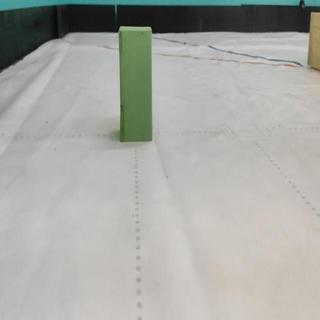greenbox: (118, 25, 155, 142)
